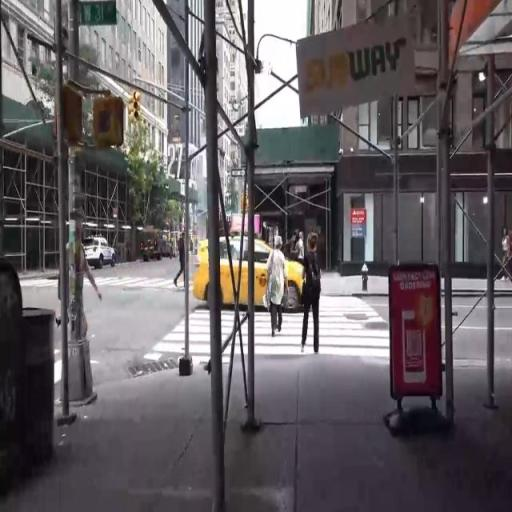person: (63, 217, 99, 347), (303, 228, 325, 344), (267, 239, 285, 331), (176, 230, 187, 296), (292, 232, 307, 264)
